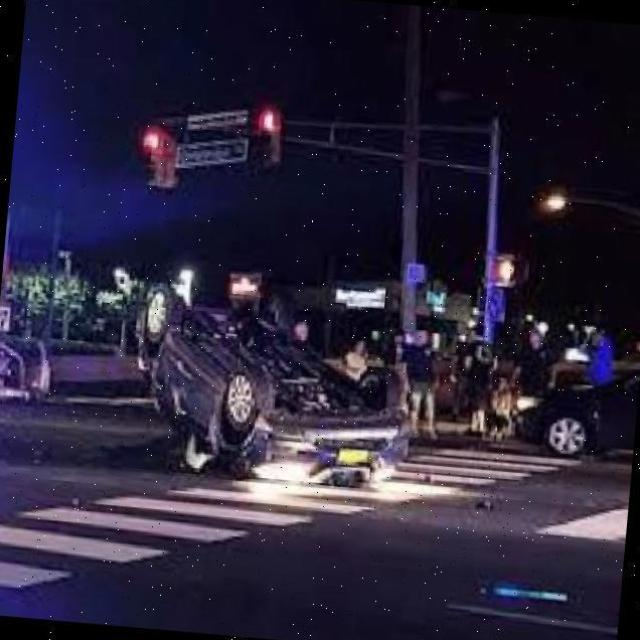accident: (112, 272, 428, 504)
